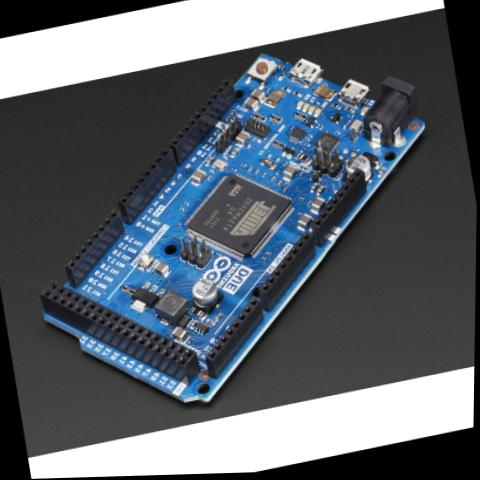Arduino-Due: (0, 17, 474, 447)
